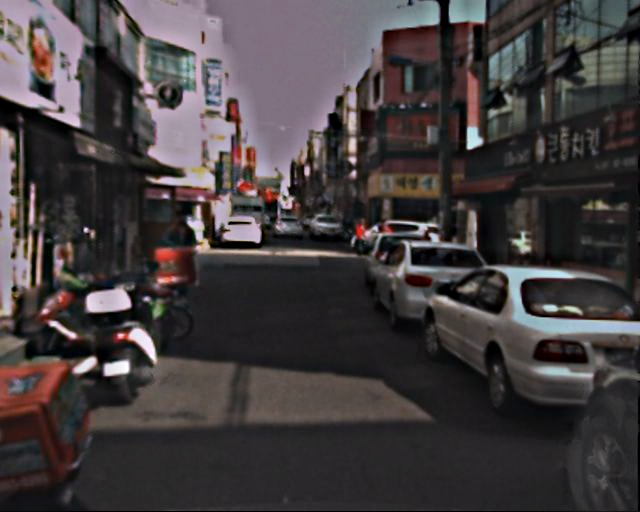person: (160, 212, 207, 310), (375, 217, 393, 262), (352, 217, 368, 257)
